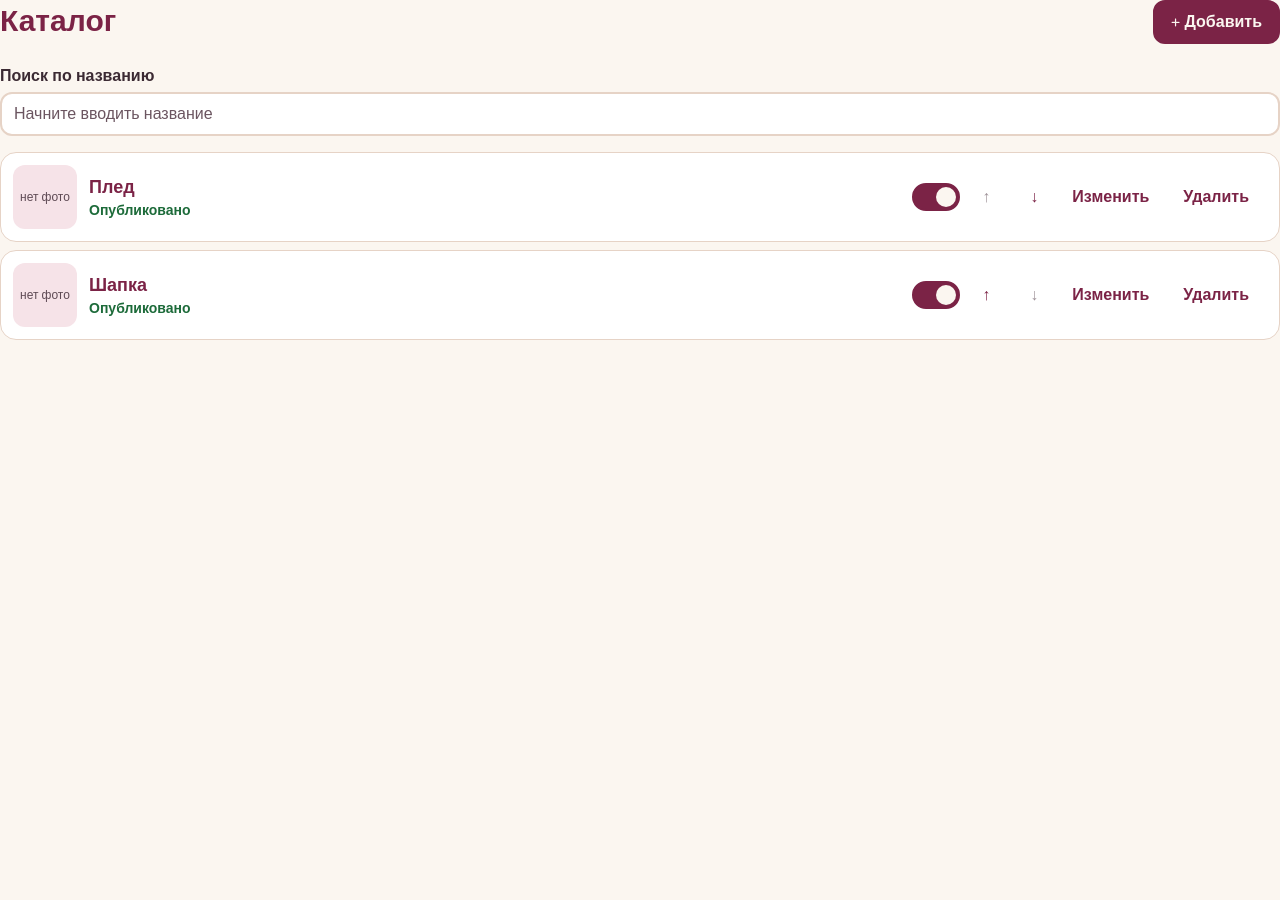
it: список › удаление требует подтверждения
Click the button with aria-label "Удалить «Плед»": point(1216, 197) x1=1165 y1=175 x2=1267 y2=219
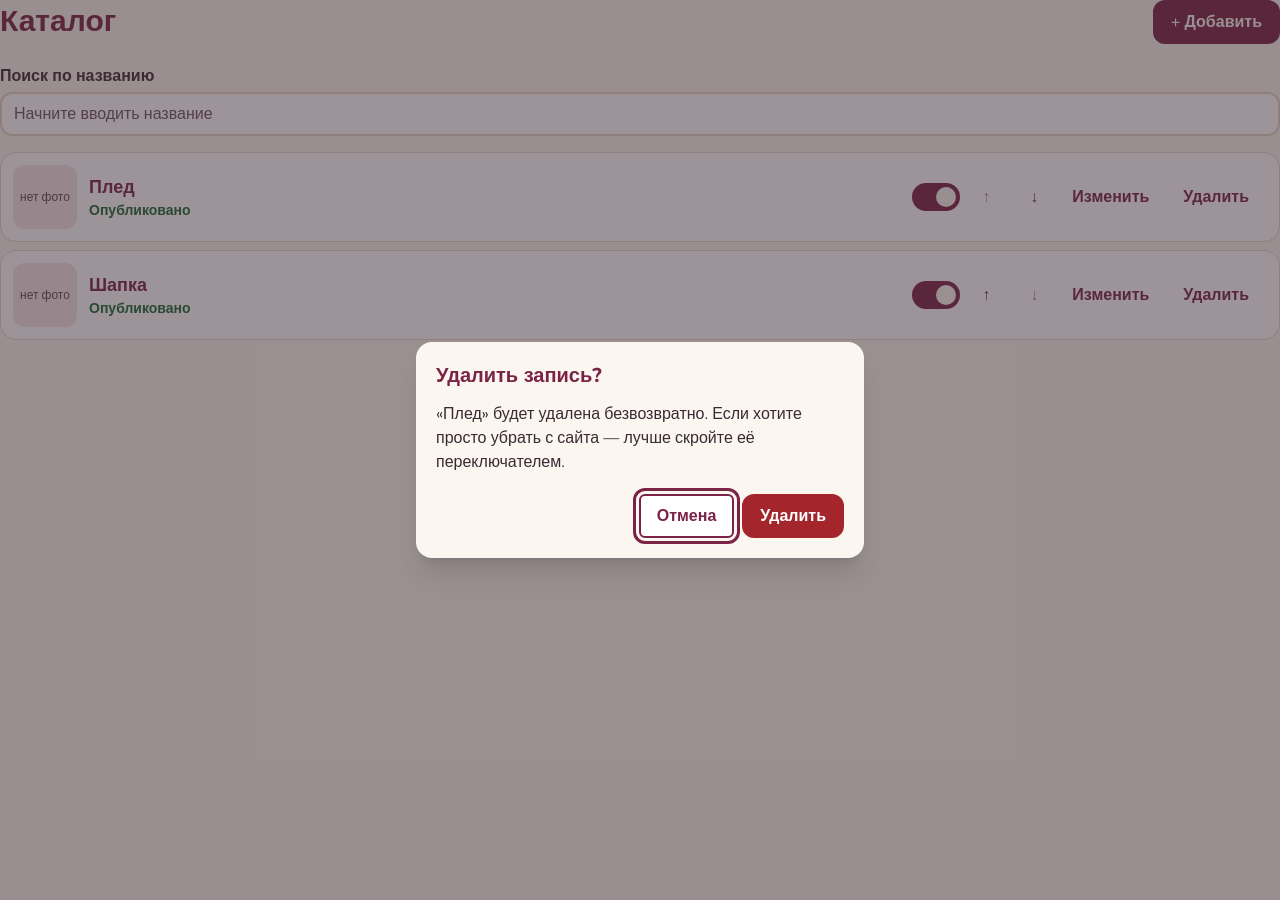
Click the button "Удалить": point(793, 516) x1=742 y1=494 x2=844 y2=538
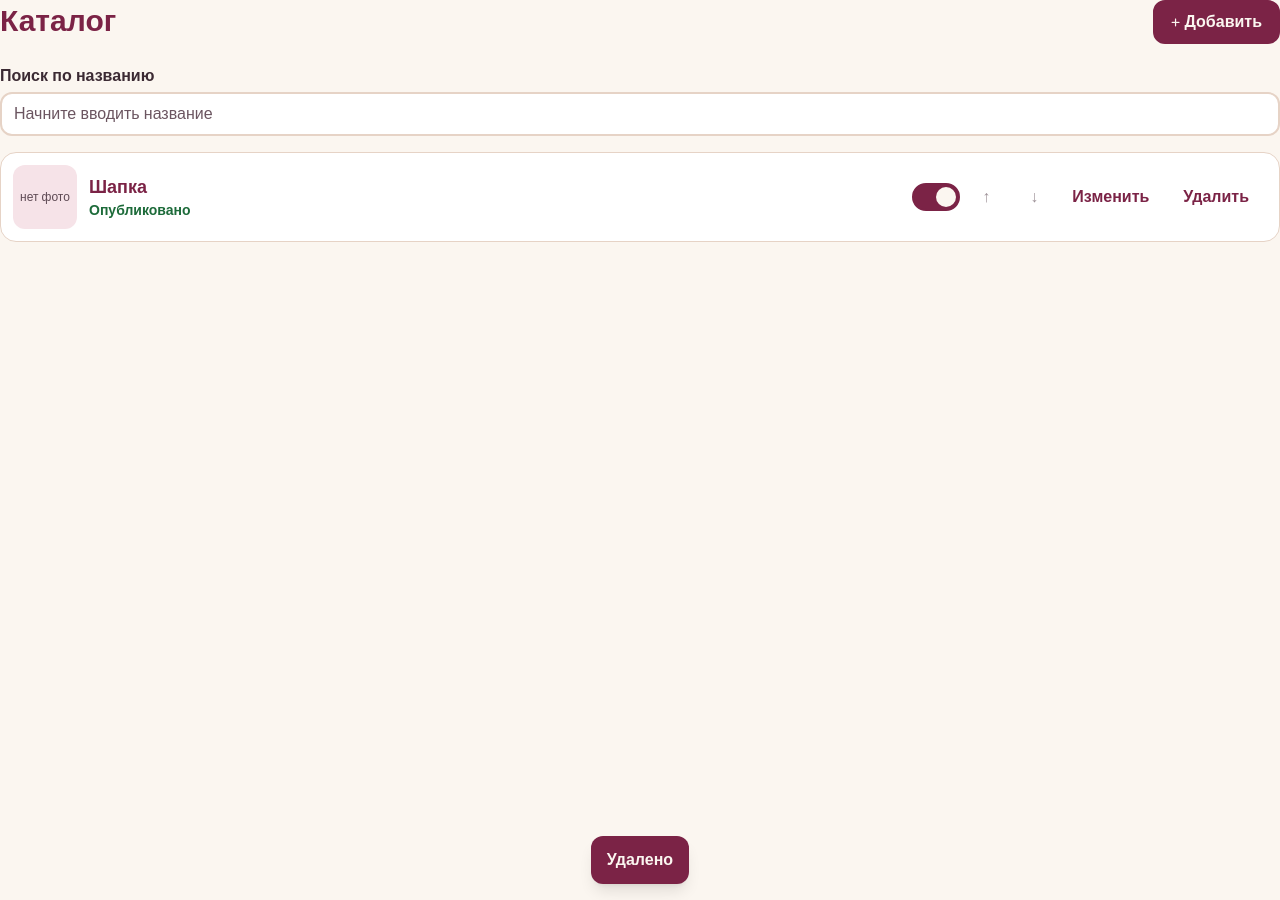
Result: the link "Плед" is gone
